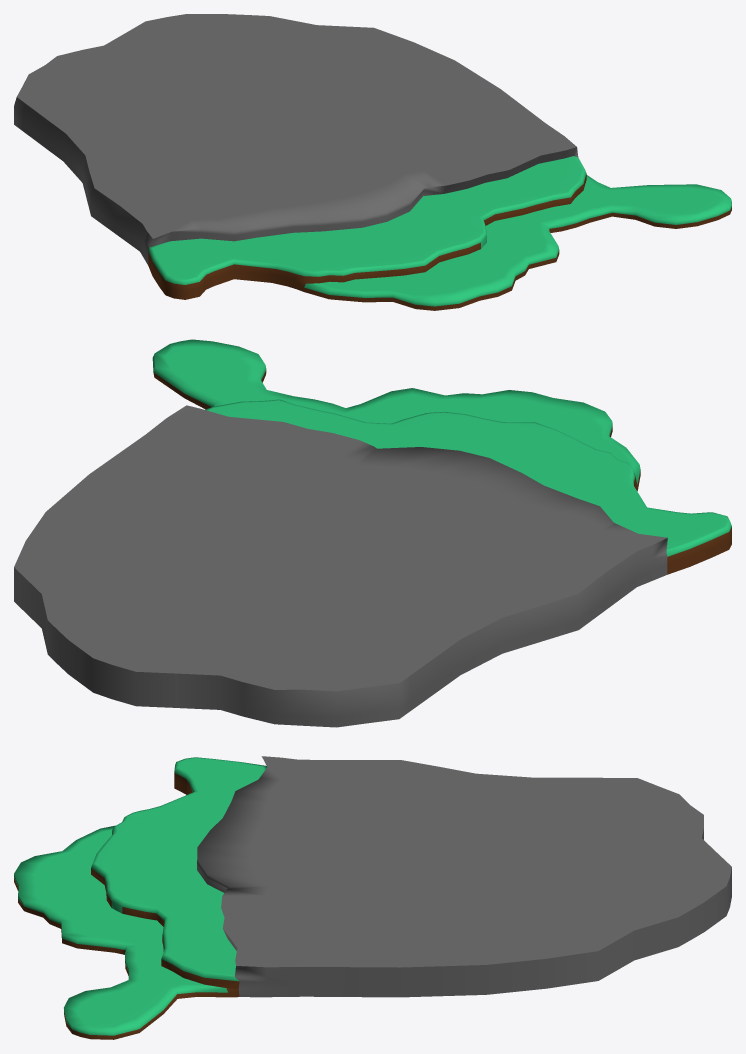
File: StepsStartingAreaCollider.fbx
The picture shows the model from 3 angles, top to bottom: view 1: azimuth 30°, elevation 25°; view 2: azimuth 150°, elevation 25°; view 3: azimuth 270°, elevation 25°; orthographic projection. The views are drawn at different scales.
Parts seen in each view (by area): view 1: StepsStartingAreaCollider_Model; view 2: StepsStartingAreaCollider_Model; view 3: StepsStartingAreaCollider_Model.
Boxes of the visible parts, x1,y1,x2,y2 form: StepsStartingAreaCollider_Model: (14,14,731,310); StepsStartingAreaCollider_Model: (14,339,731,727); StepsStartingAreaCollider_Model: (14,756,731,1039).
Size of the model in its own units: 6782 by 366 by 7782.
